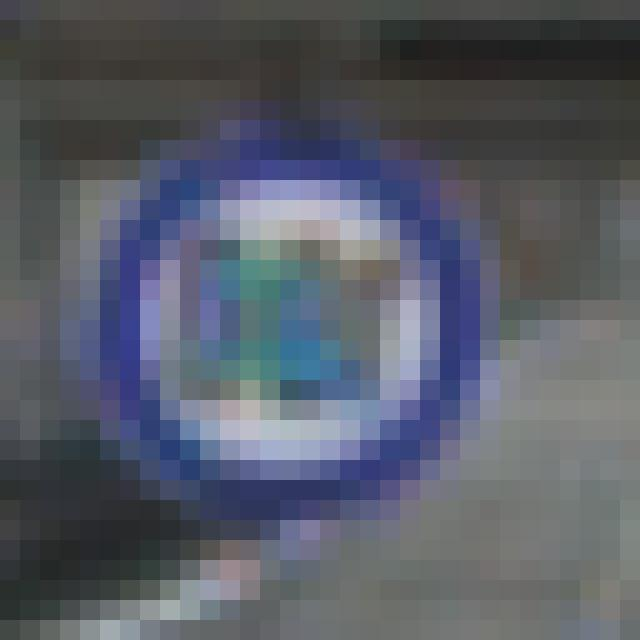SPEED LIMIT 100: (101, 129, 488, 515)
